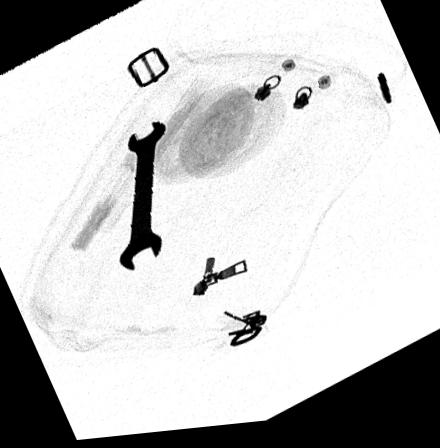Wrench: (116, 122, 167, 275)
